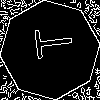T: (25, 25, 74, 61)
